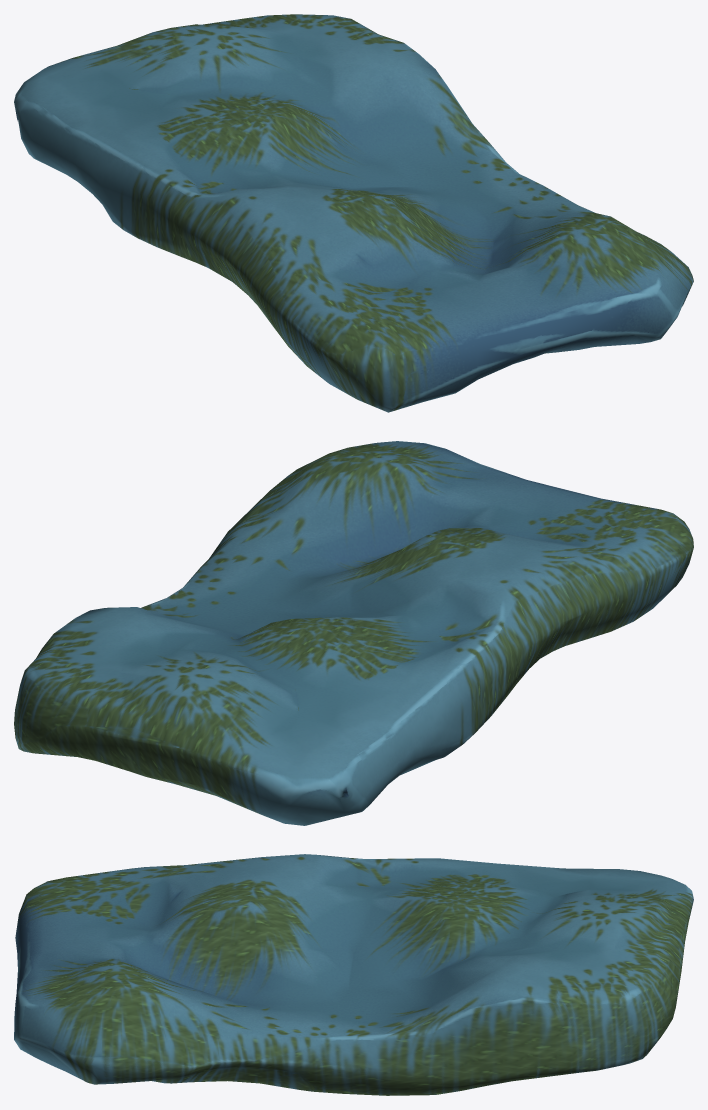
The model's file is Cliff_flat.fbx.
3 renders of one model, top to bottom at view 1: azimuth 30°, elevation 25°; view 2: azimuth 150°, elevation 25°; view 3: azimuth 270°, elevation 25°, orthographic. The views are drawn at different scales.
Parts seen in each view (by area): view 1: Cliff_flat; view 2: Cliff_flat; view 3: Cliff_flat.
Boxes of the visible parts, left/top/right/bottom form: Cliff_flat: left=14, top=14, right=693, bottom=412; Cliff_flat: left=14, top=441, right=693, bottom=825; Cliff_flat: left=14, top=854, right=693, bottom=1095.
Size of the model in its own units: 563 by 187 by 969.
